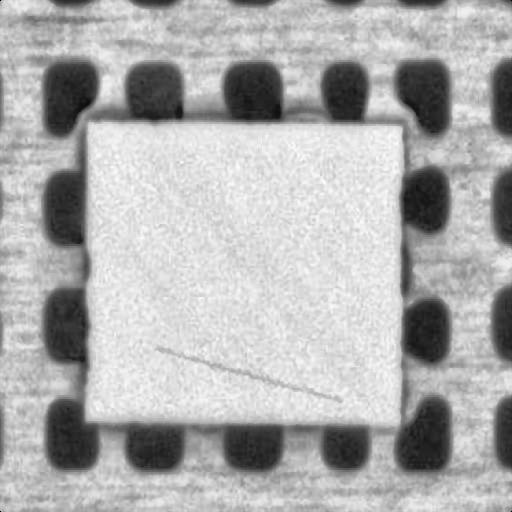DIE_CRACK: (204, 260, 452, 300)
